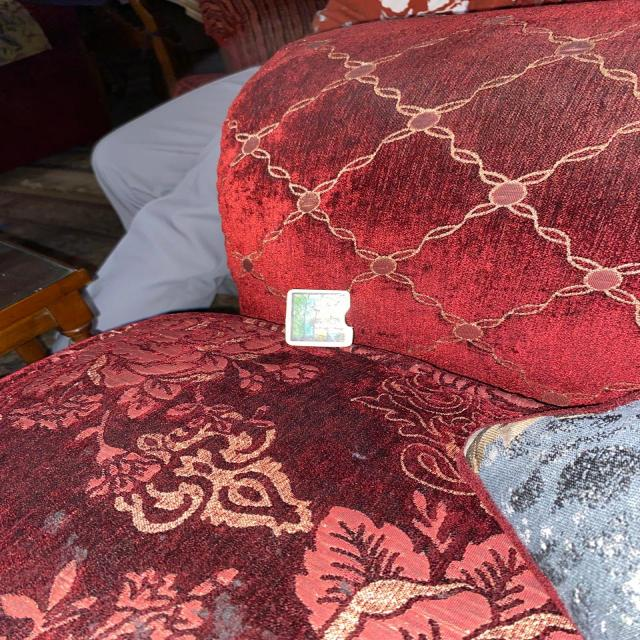E: (286, 289, 353, 348)
